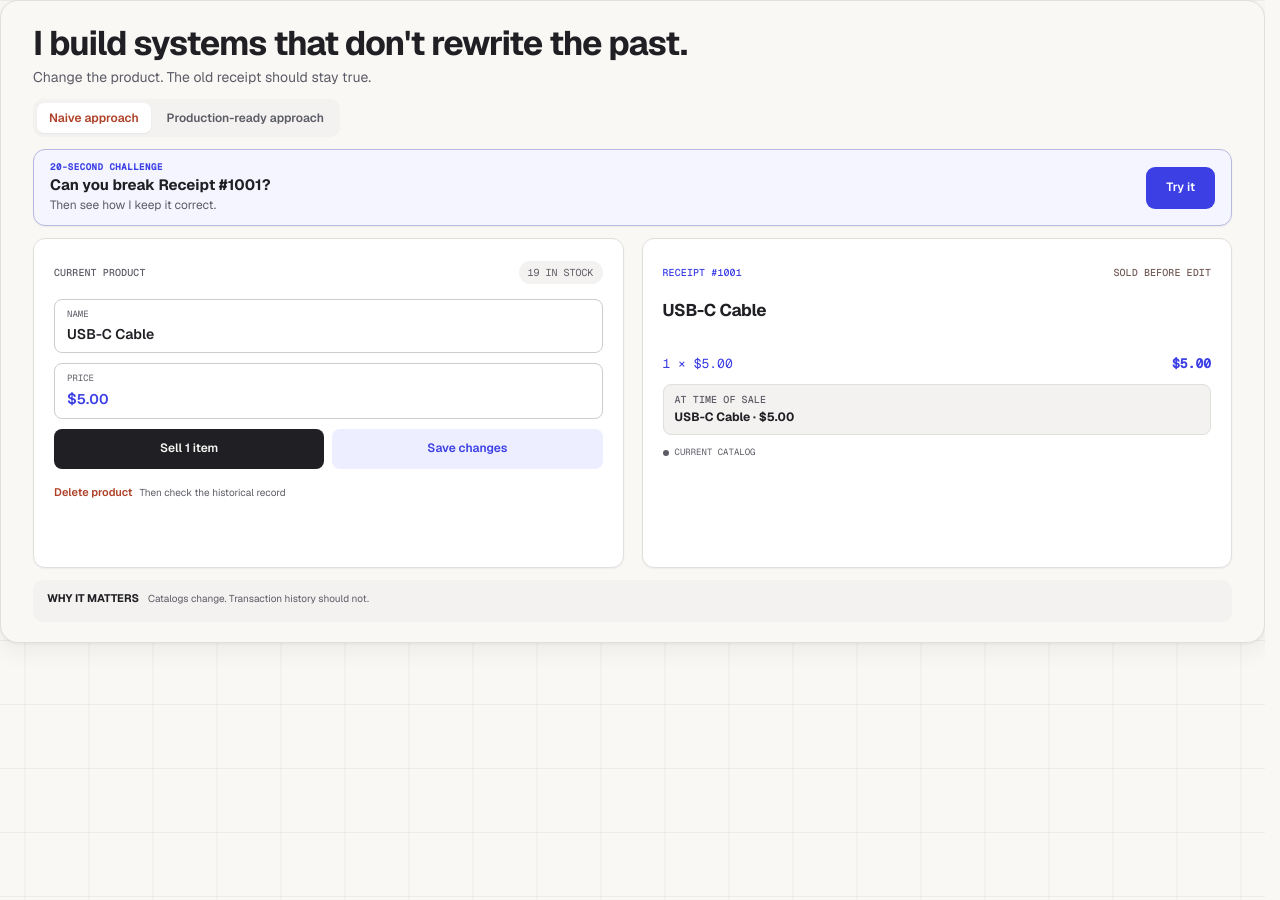
InventoryDemo › advances to the corrupted receipt after a valid catalog change is saved
Click the button "Try it": (1181, 188) [1146,166,1215,208]
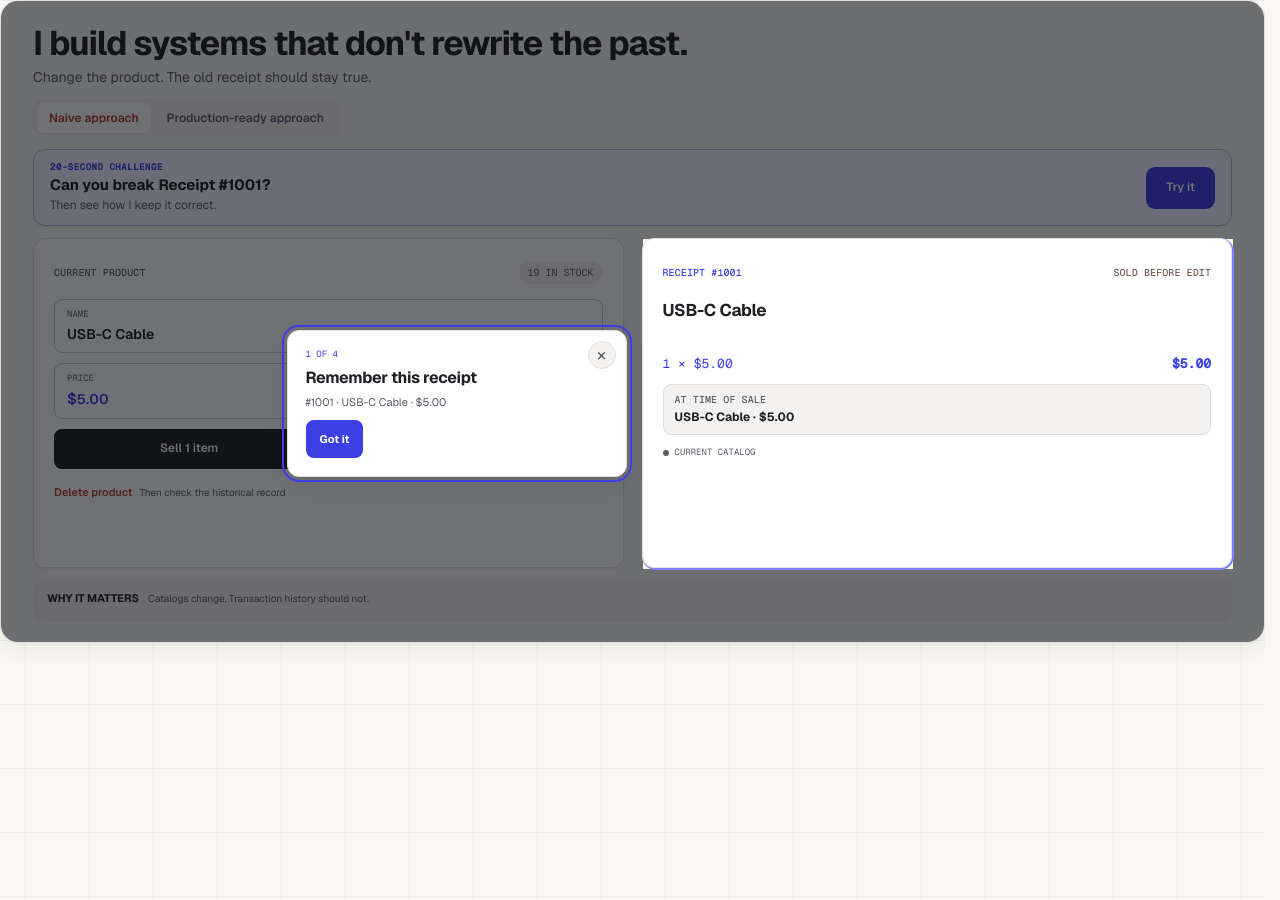
Click the button "Got it": (334, 439) [306,420,363,458]
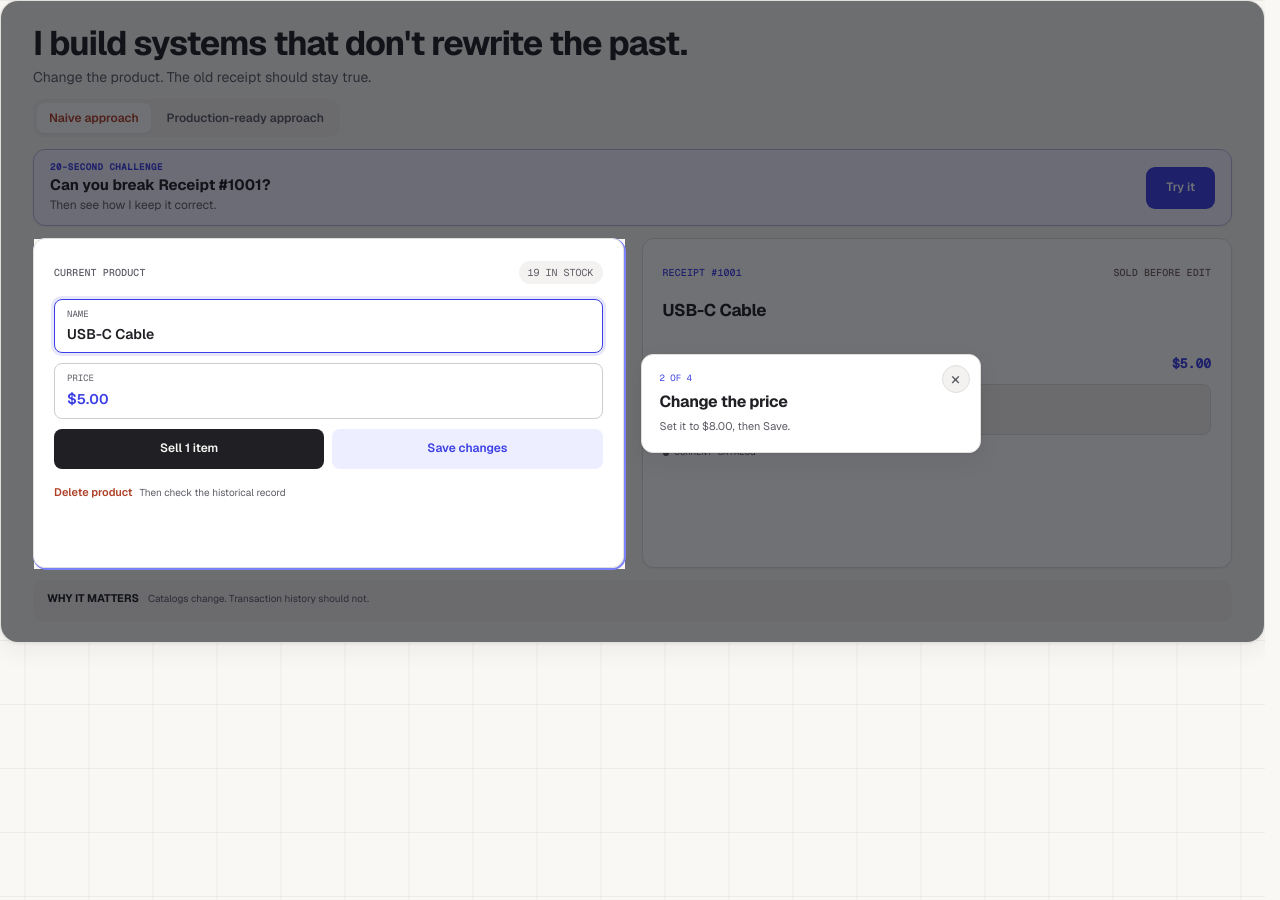
Replace the text in the field labelled "Name" with "Premium Braided USB-C Cable": (328, 334) [67,325,590,344]
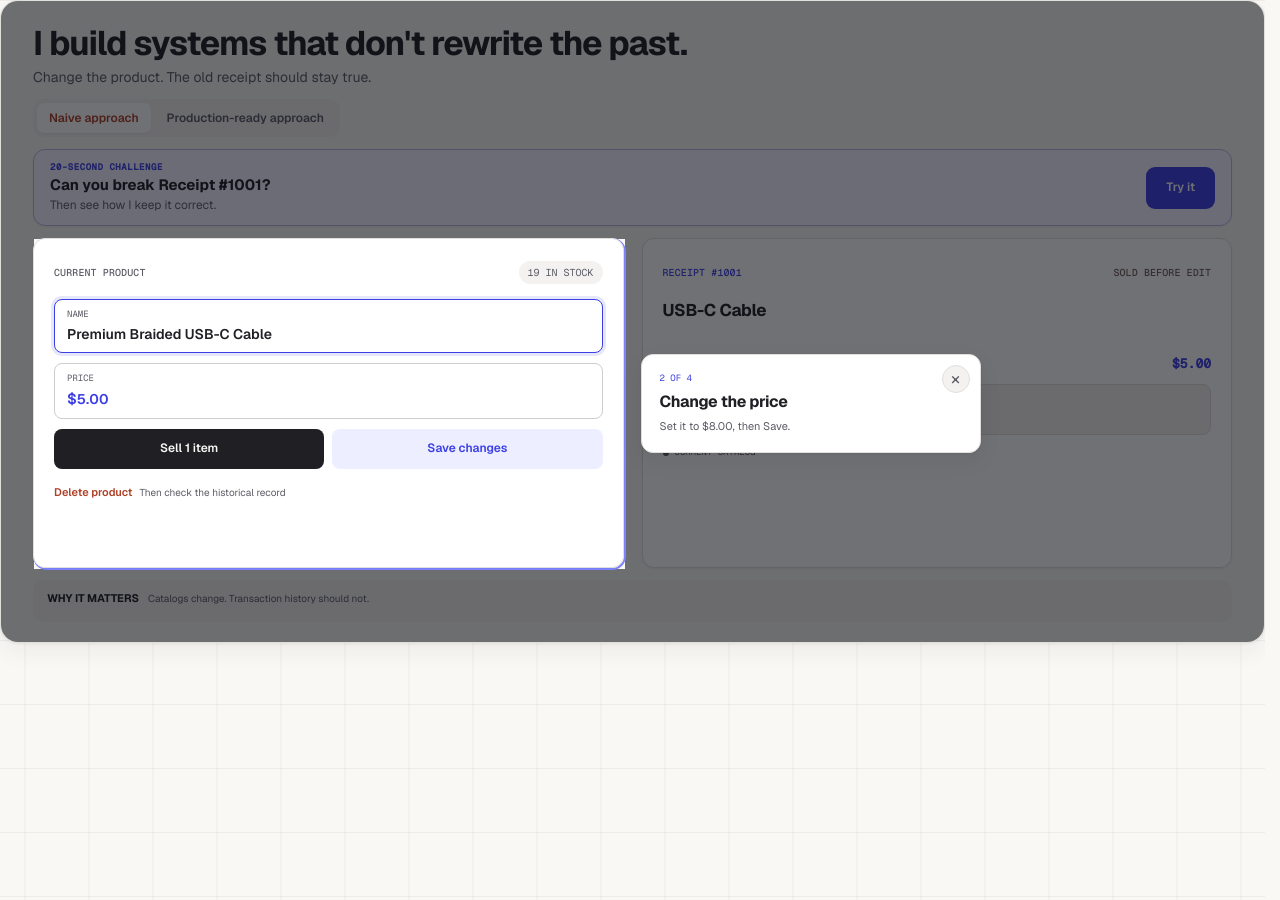
Replace the text in the field labelled "Price" with "8": (333, 399) [77,390,590,408]
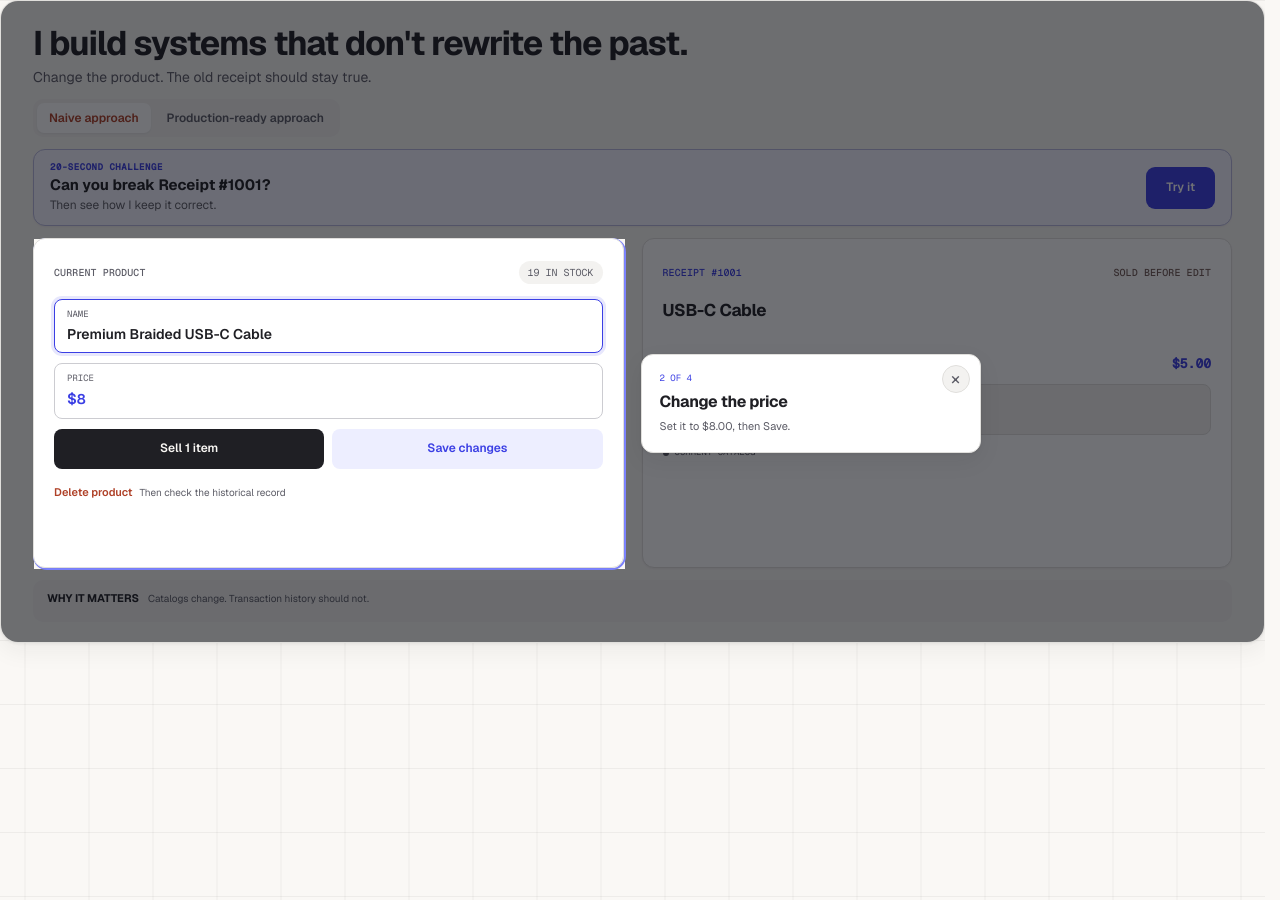
Click the button "Save changes": (467, 449) [332,429,603,469]
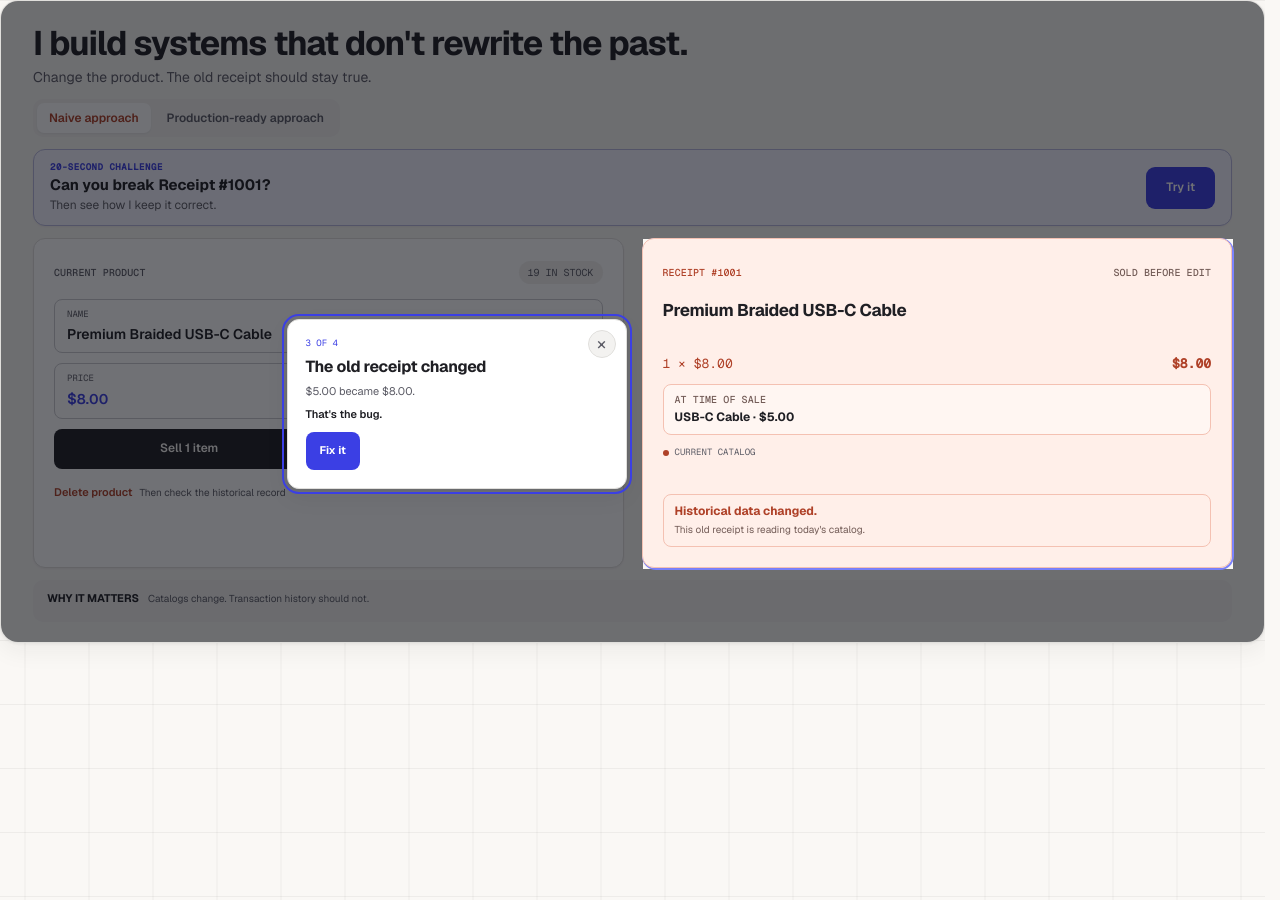
Check: the dialog shows "3 OF 4", box [286,319,626,489]
Check: the heading "The old receipt changed" is shown, box [306,356,486,377]
Check: the dialog shows "$5.00 became $8.00.", box [306,384,415,398]
